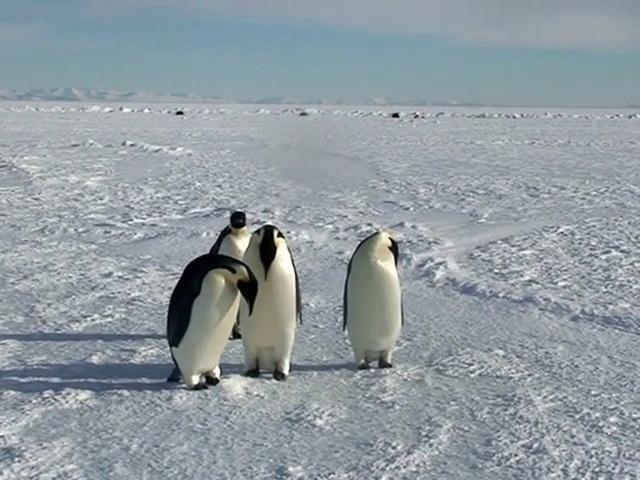animal: (344, 232, 405, 369)
